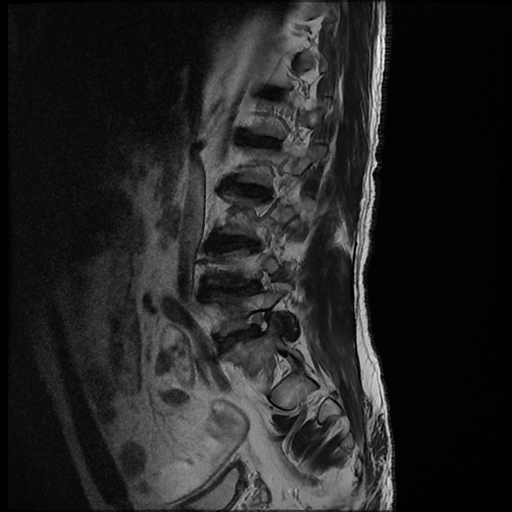RFS2: (234, 301, 281, 345)
